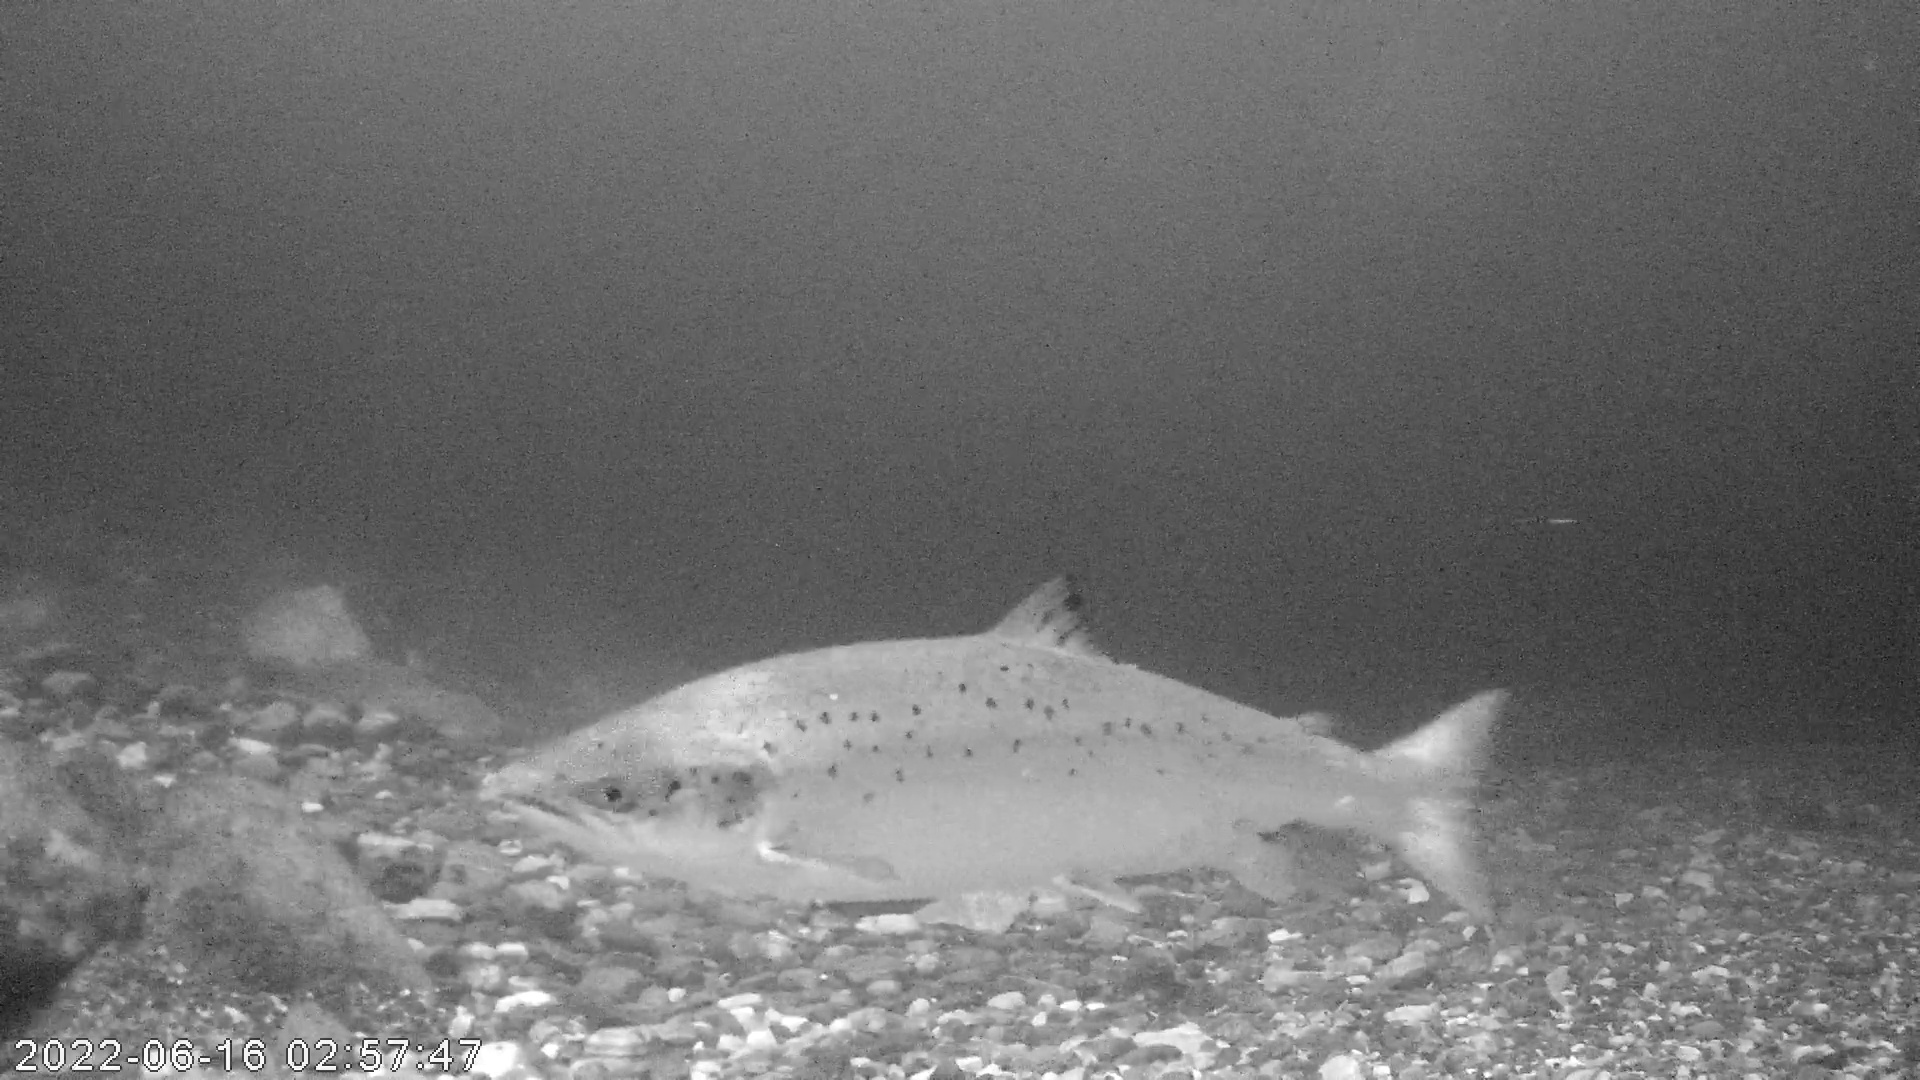salmon: (487, 567, 1509, 931)
